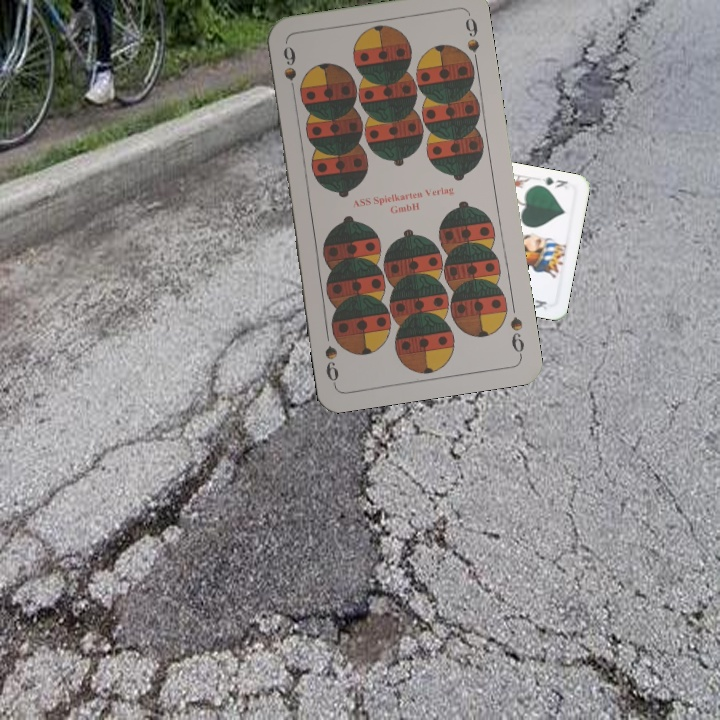GK: (538, 173, 571, 191)
S9: (279, 42, 299, 100), (506, 313, 527, 359)
